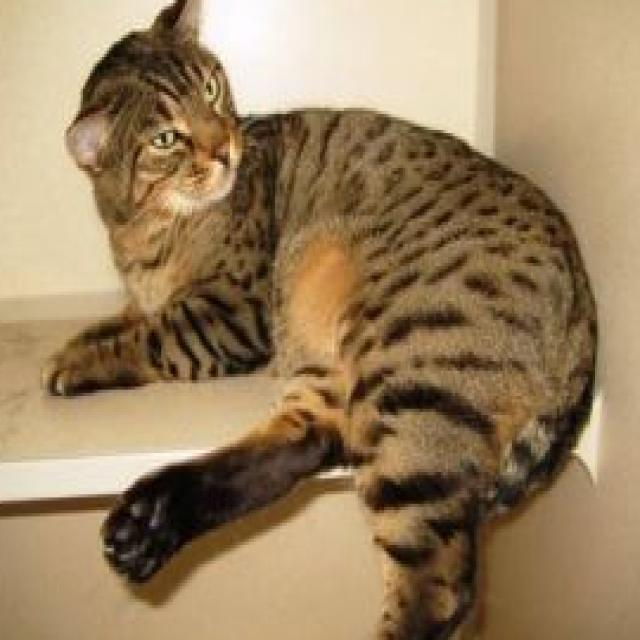Bengal: (35, 0, 607, 640)
